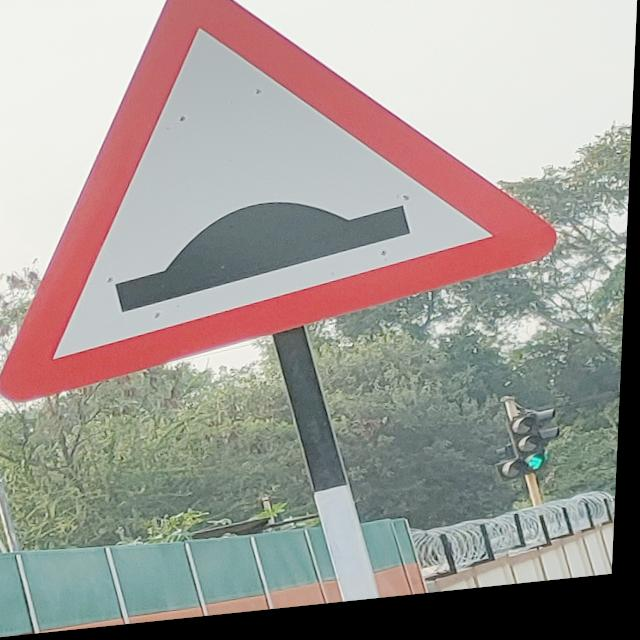BUMPS: (8, 0, 562, 397)
